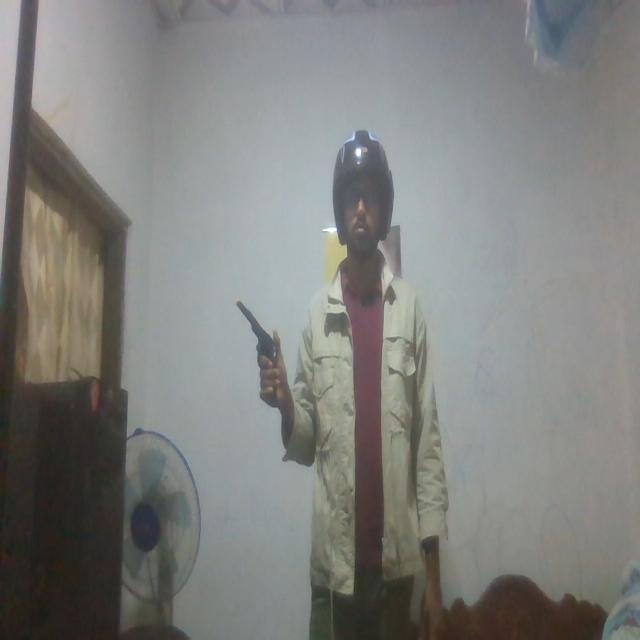Gun_Holder: (230, 297, 290, 390)
Helmet_Wearer: (323, 125, 401, 262)
Jacket_Wearer: (284, 266, 458, 590)
Person: (264, 128, 458, 640)
